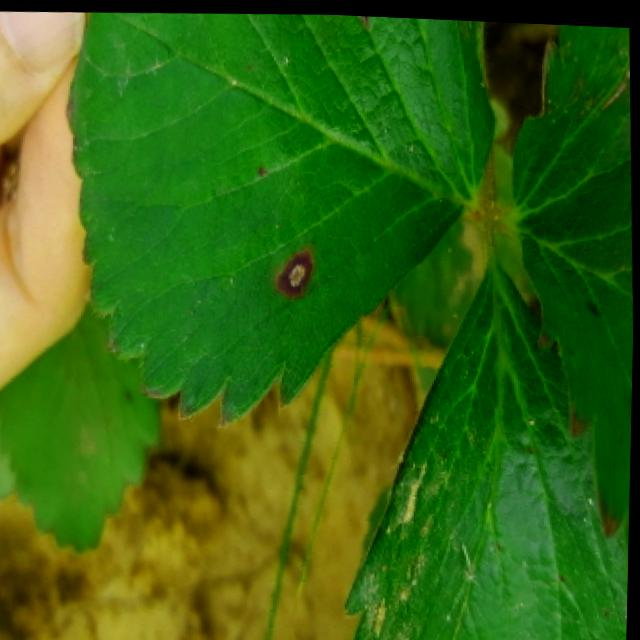Leaf Spot: (65, 11, 496, 426), (510, 20, 635, 572)
